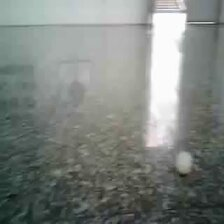w: (175, 151, 195, 176)
